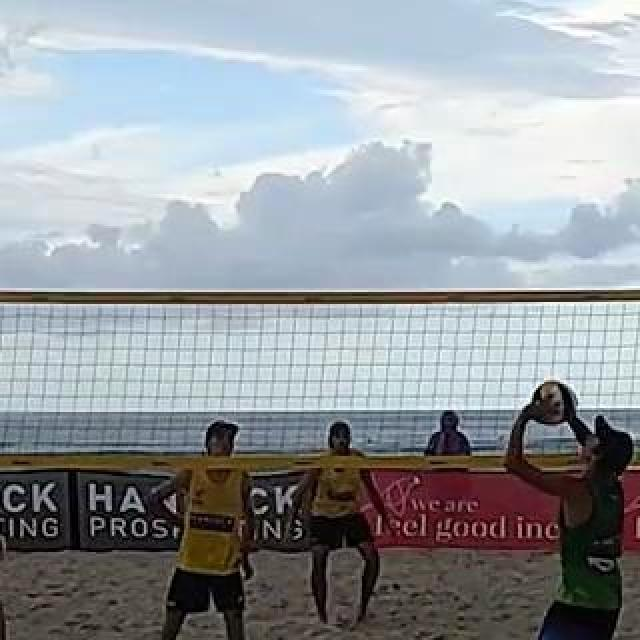volleyball: (534, 379, 576, 423)
